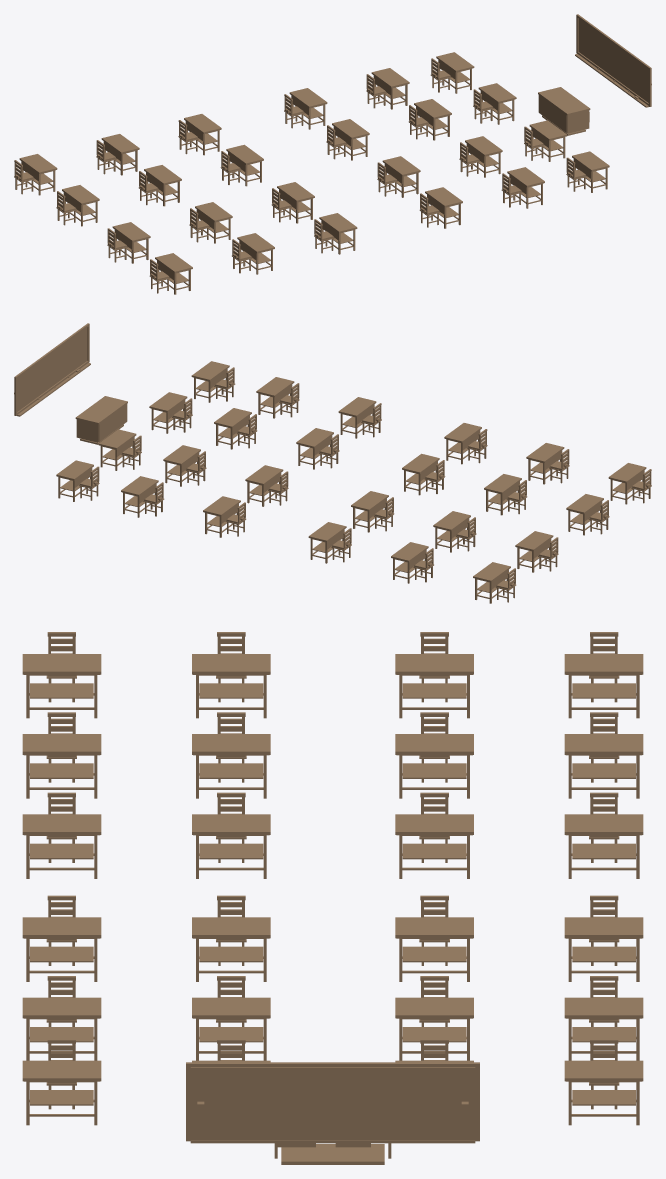
The model's file is classroom_m1_v01.glb.
3 renders of one model, top to bottom at view 1: azimuth 30°, elevation 25°; view 2: azimuth 150°, elevation 25°; view 3: azimuth 270°, elevation 25°, orthographic. The views are drawn at different scales.
Visible parts, largest first — view 1: M1_Wood; view 2: M1_Wood; view 3: M1_Wood.
Part boxes in pixels (bbox=[...]): M1_Wood: bbox=[14, 14, 651, 294]; M1_Wood: bbox=[14, 323, 651, 603]; M1_Wood: bbox=[22, 632, 643, 1164].
Bounding box in the file's own units: 18.15 × 2.33 × 9.16.
